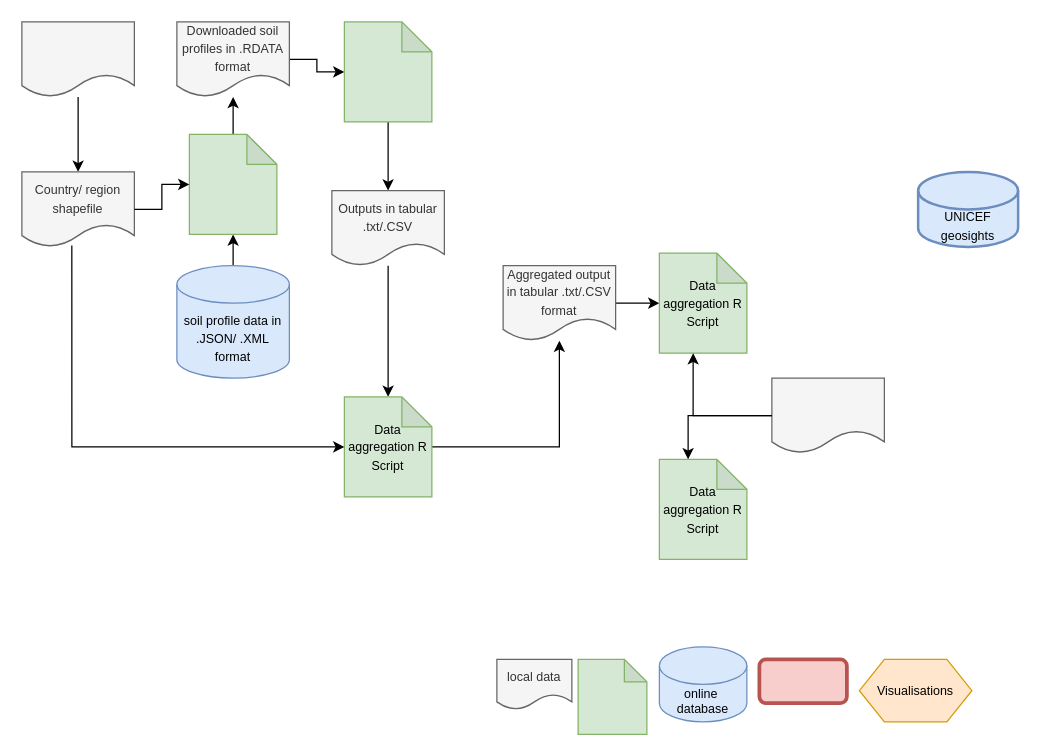
Some shapes in this 1041 by 756 pixel diagram are drawn without their labels. Each missing label, with the centre of its shape:
02_ prepare _soil_data.R: the point at 232,183
03_ run APSIM_loop.R: the point at 387,71
Aggregated population data in .CSV format: the point at 827,415
Climate model data in.NC format: the point at 77,59
Model: the point at 802,680
Script: the point at 612,696
